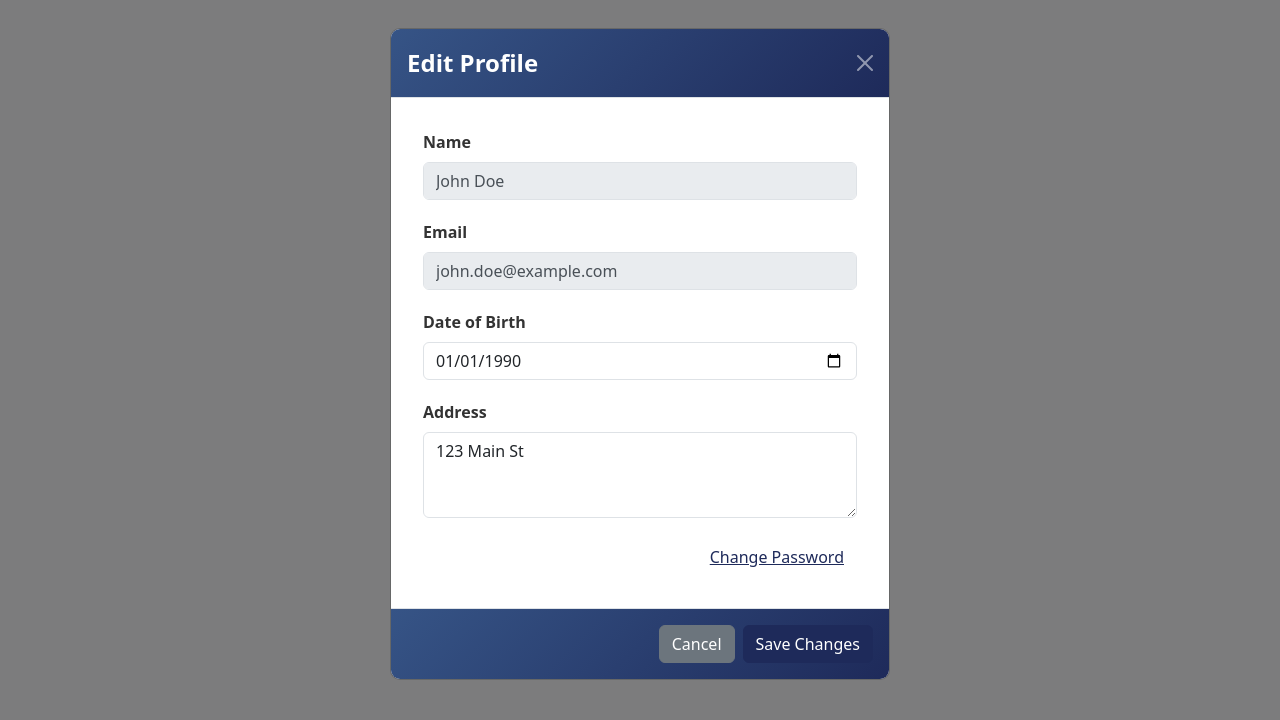
shows error alert when passwords do not match
// Open Change Password modal
Click the button "Change Password" at (777, 557), box [697, 538, 857, 576]
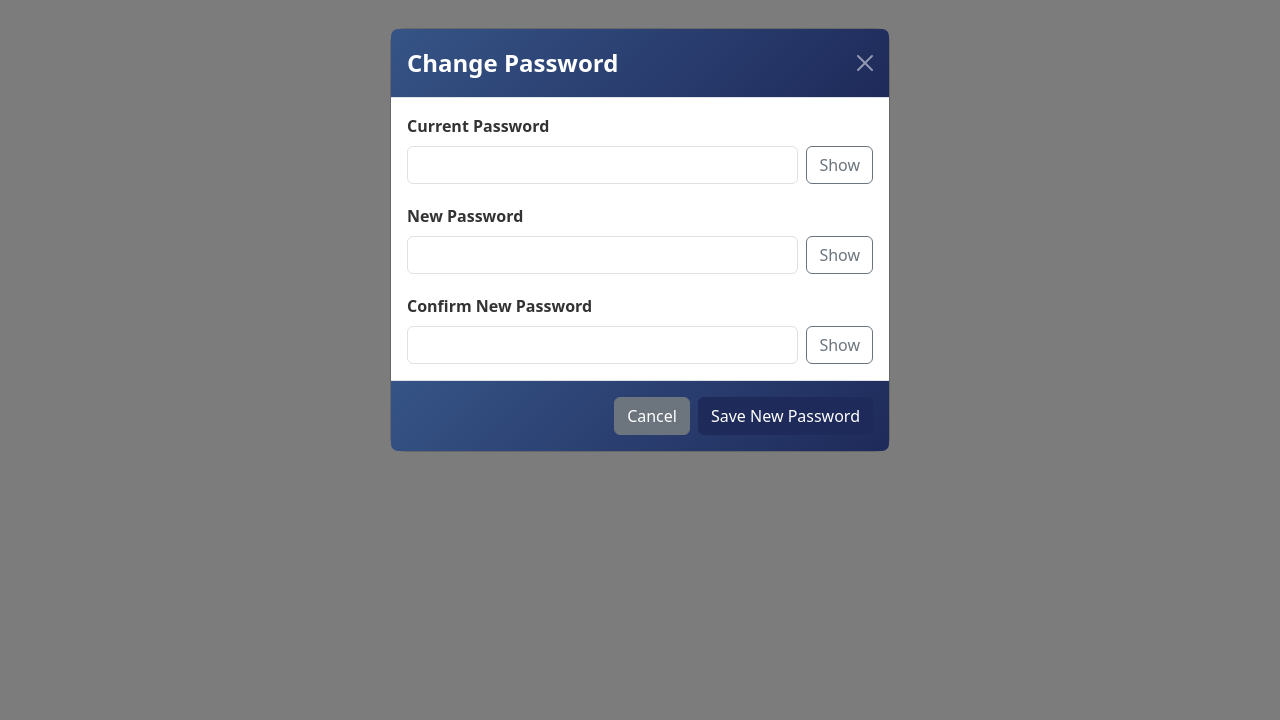
// Simulate matching password inputs
Type "newpassword123" into the password field labelled "New Password" at (603, 255), box [407, 236, 798, 274]
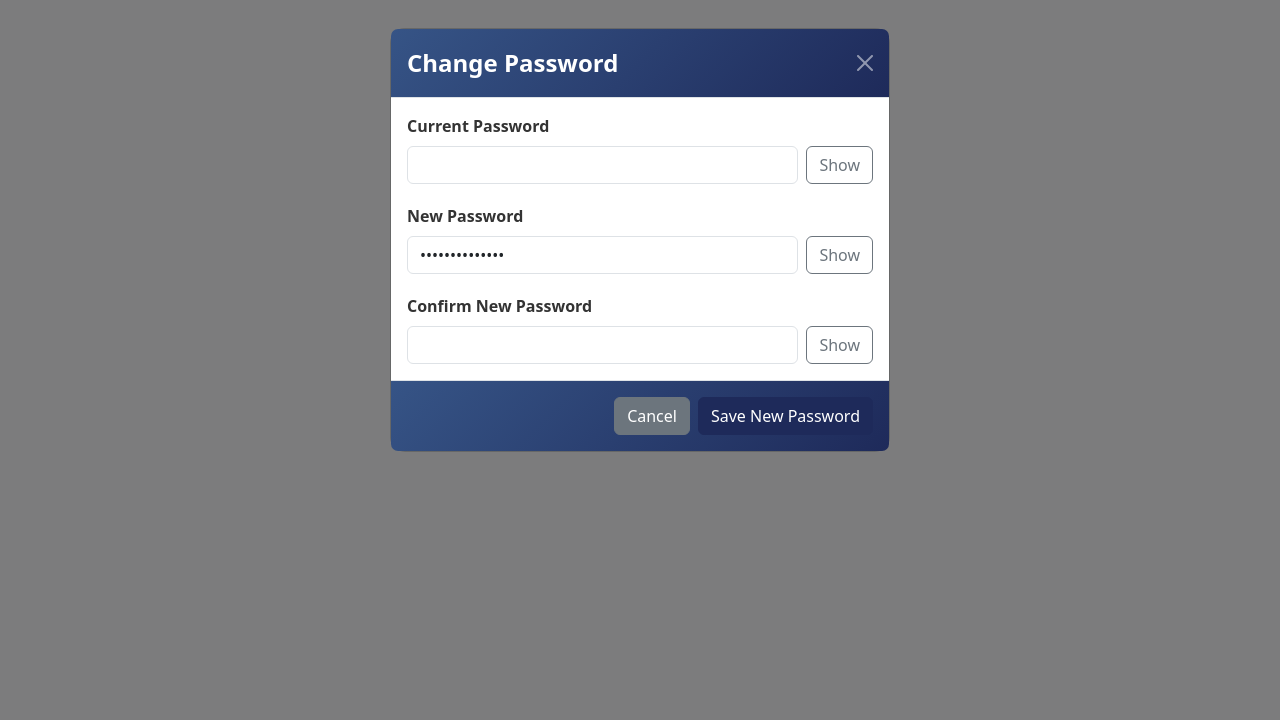
Type "newpassword" into the password field labelled "Confirm New Password" at (603, 345), box [407, 326, 798, 364]
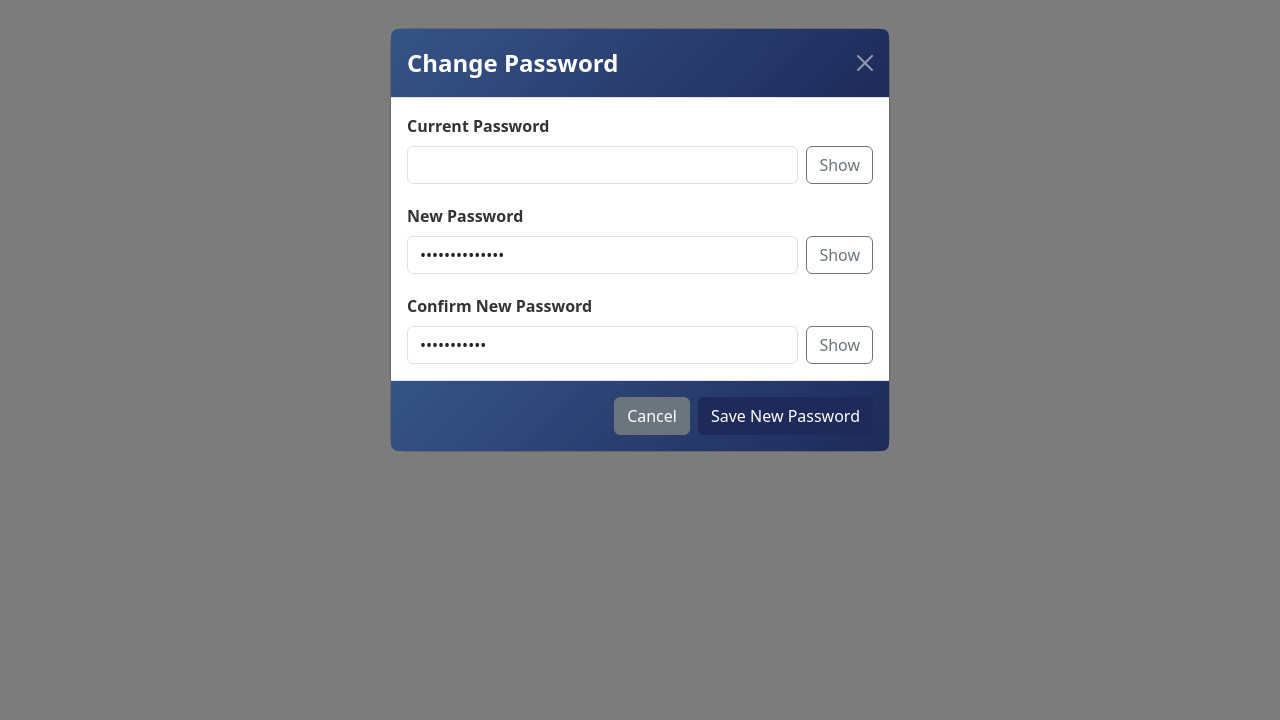
// Try to save the new password
Click the button "Save New Password" at (786, 416), box [698, 397, 873, 435]
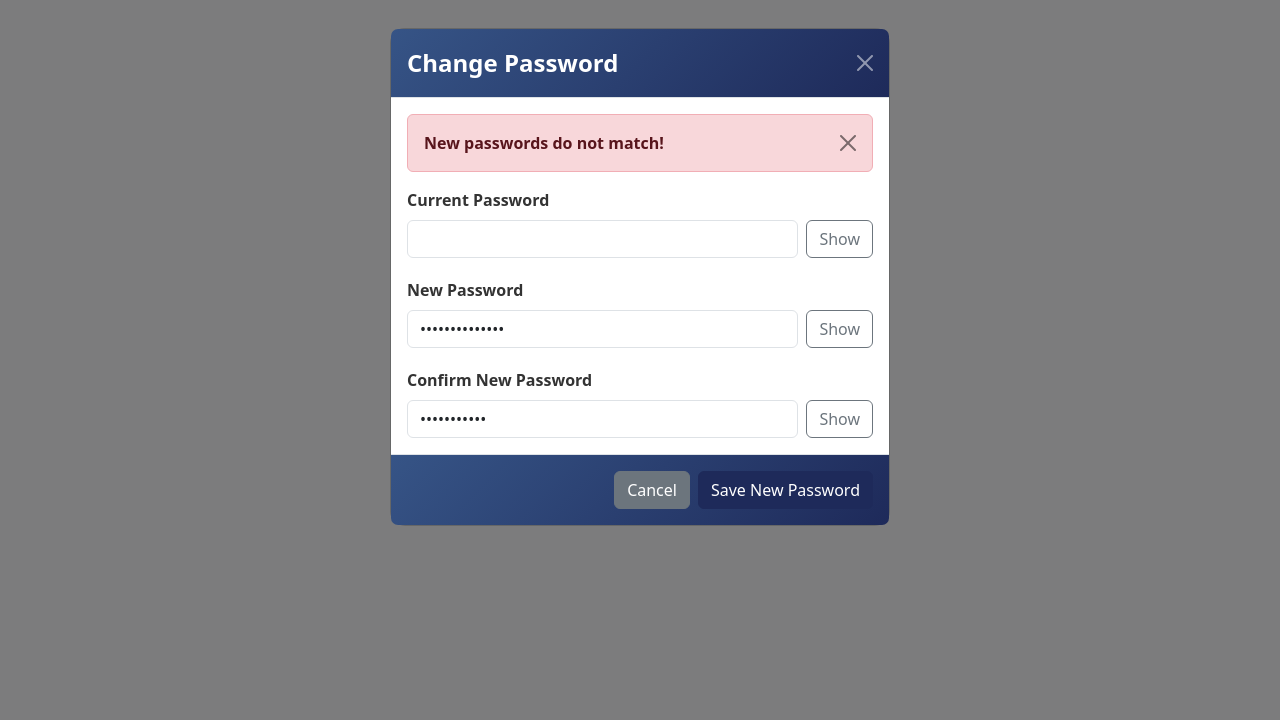
Result: the text "New passwords do not match!" is shown at [407, 114, 873, 172]
